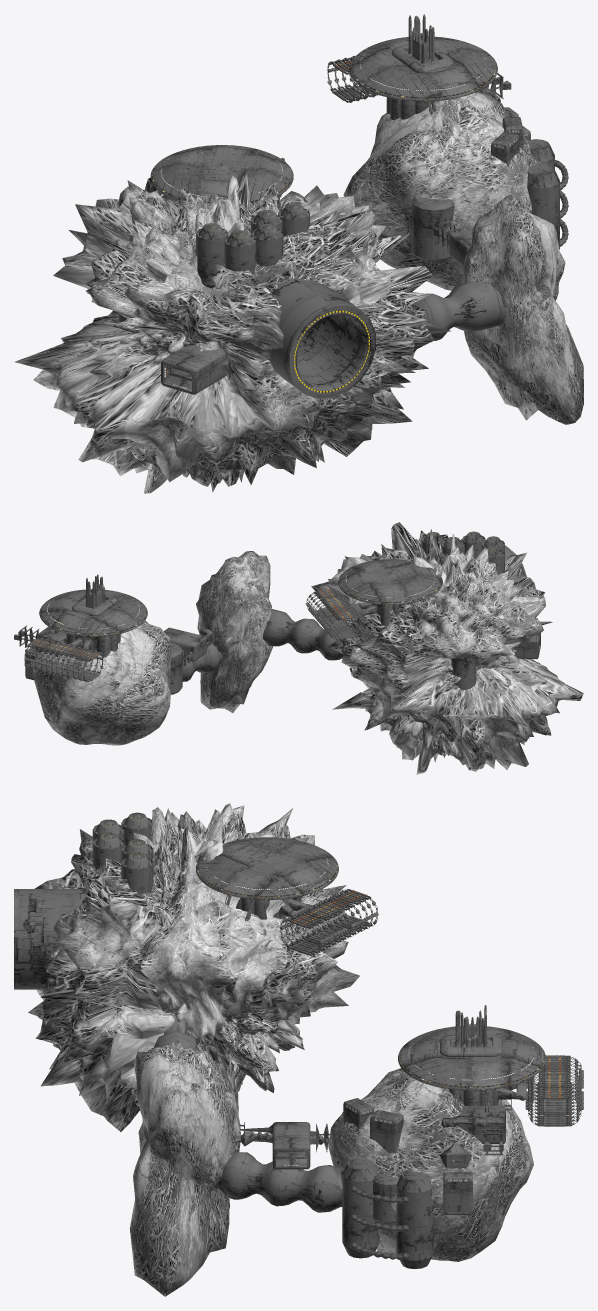
The model's file is space_station_asteroid_mining_facility.glb.
The picture shows the model from 3 angles, top to bottom: view 1: azimuth 30°, elevation 25°; view 2: azimuth 150°, elevation 25°; view 3: azimuth 270°, elevation 25°; orthographic projection. The views are drawn at different scales.
Parts seen in each view (by area): view 1: object 14, object 1, MaterialFBXASC032FBXASC0352142150880 (×6); view 2: object 14, object 1, MaterialFBXASC032FBXASC0352142150880 (×4); view 3: object 14, object 1, MaterialFBXASC032FBXASC0352142150880 (×5).
Boxes of the visible parts, x1,y1,x2,y2 form: object 14: (15,14,583,493); object 1: (225,73,568,398); MaterialFBXASC032FBXASC0352142150880 (×6): (196,164,559,288); object 14: (24,522,583,774); object 1: (14,545,526,681); MaterialFBXASC032FBXASC0352142150880 (×4): (169,531,504,694); object 14: (28,803,583,1296); object 1: (14,889,511,1259); MaterialFBXASC032FBXASC0352142150880 (×5): (92,812,433,1268).
Bounding box in the file's own units: 438 × 223 × 358.
Materials: 9 (6 with a texture image).
